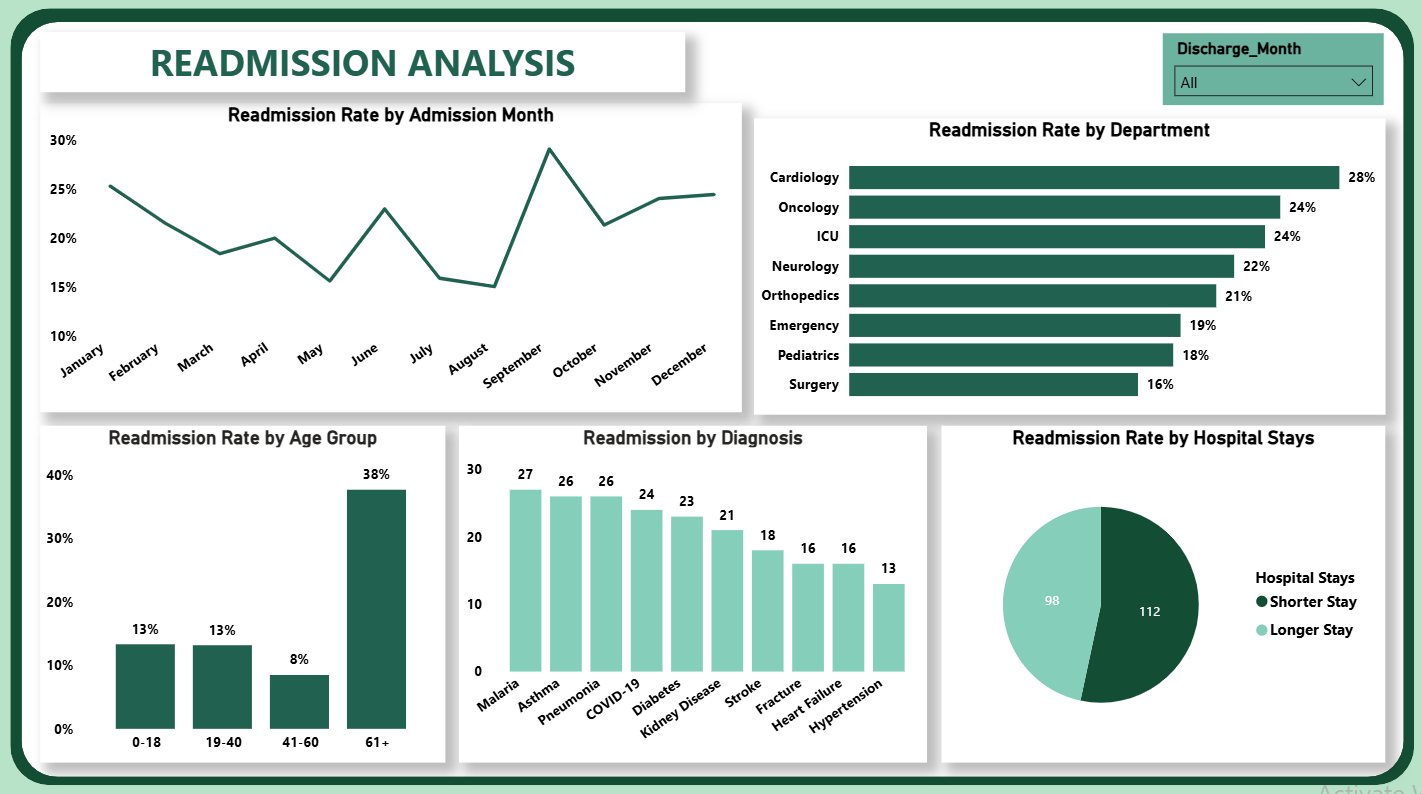

What the dashboard file says about the page in this screenshot:
{"tool":"powerbi","page":{"name":"Readmission Analysis","canvas":[1280,720],"ordinal":1},"visuals":[{"type":"shape","box":[18.4,14.7,1250.3,692],"z":0},{"type":"shape","box":[28.8,26.4,1230.9,672.4],"z":1000},{"type":"lineChart","fields":{"Category":["hospital_admissions.Admission Month"],"Y":["hospital_admissions.Readmission Rate"]},"box":[46.2,99.6,624.7,275.6],"z":2000},{"type":"barChart","fields":{"Category":["hospital_admissions.Department"],"Y":["hospital_admissions.Readmission Rate"]},"box":[681.8,112.1,562.1,263.6],"z":3000},{"type":"clusteredColumnChart","title":"Readmission Rate by Age Group","fields":{"Category":["hospital_admissions.Age Group 1"],"Y":["hospital_admissions.Readmission Rate"]},"box":[46.2,386.7,360.7,300.1],"z":4000},{"type":"columnChart","title":"Readmission by Diagnosis","fields":{"Category":["hospital_admissions.Diagnosis"],"Y":["Sum(hospital_admissions.Readmission_Flag)"]},"box":[418.4,386.7,417,300.1],"z":5000},{"type":"shape","box":[75,36.1,574.2,53.4],"z":6000},{"type":"textbox","box":[46.2,36.1,574.2,53.4],"z":7000},{"type":"pieChart","title":" Readmission Rate by Hospital Stays","fields":{"Category":["hospital_admissions.Hospital Stays"],"Y":["Sum(hospital_admissions.Readmission_Flag)"]},"box":[848.3,386.7,395.3,300.1],"z":8000},{"type":"slicer","fields":{"Values":["hospital_admissions.Discharge_Month"]},"box":[1045.5,36.4,197,63.6],"z":8001}]}

Visuals, with their boxes in screenshot pixels (x1, y1, x2, y2), scaled from the page's 1280x720 canvas onto the 1421x794 screenshot:
shape: 20, 16, 1408, 779
shape: 32, 29, 1398, 771
lineChart - hospital_admissions.Admission Month x hospital_admissions.Readmission Rate: 51, 110, 745, 414
barChart - hospital_admissions.Department x hospital_admissions.Readmission Rate: 757, 124, 1381, 414
"Readmission Rate by Age Group" clusteredColumnChart: 51, 426, 452, 757
"Readmission by Diagnosis" columnChart: 464, 426, 927, 757
shape: 83, 40, 721, 99
textbox: 51, 40, 689, 99
" Readmission Rate by Hospital Stays" pieChart: 942, 426, 1381, 757
slicer - hospital_admissions.Discharge_Month: 1161, 40, 1379, 110
